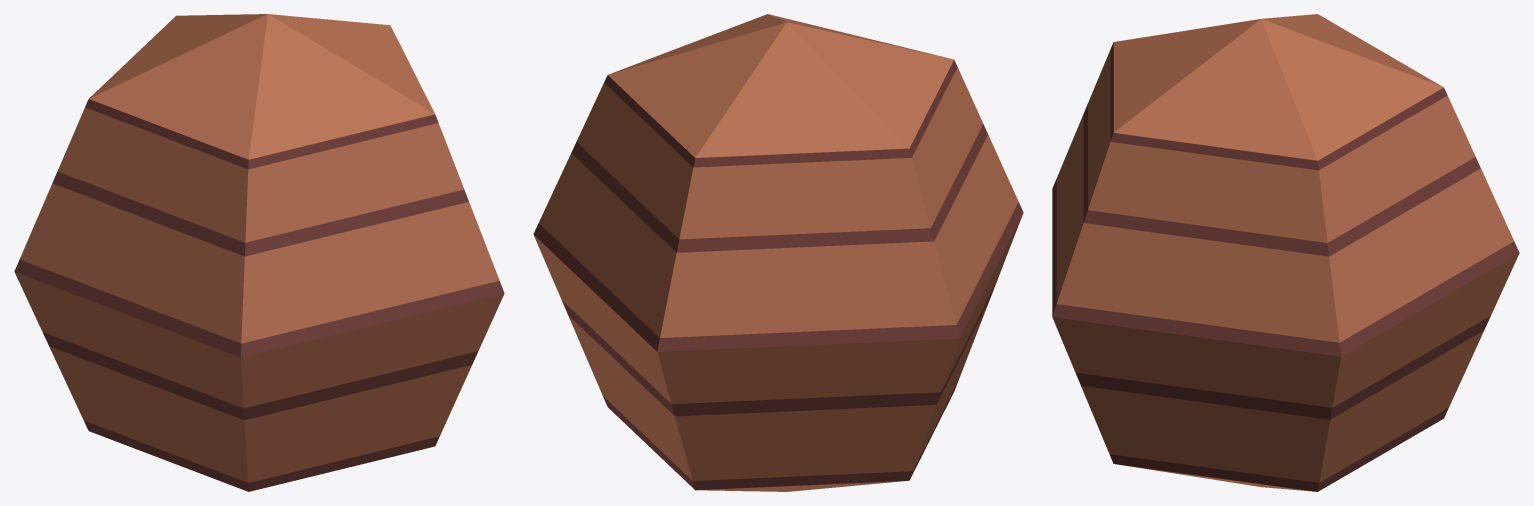
Rendered from object_beehive_natural.glb.
3 renders of one model, left to right at view 1: azimuth 30°, elevation 25°; view 2: azimuth 150°, elevation 25°; view 3: azimuth 270°, elevation 25°, orthographic.
Parts seen in each view (by area): view 1: beehive_natural; view 2: beehive_natural; view 3: beehive_natural.
Boxes of the visible parts, x1,y1,x2,y2 form: beehive_natural: (14, 14, 504, 491); beehive_natural: (533, 14, 1023, 491); beehive_natural: (1052, 14, 1519, 491).
Size of the model in its own units: 0.3804 by 0.4 by 0.3618.
